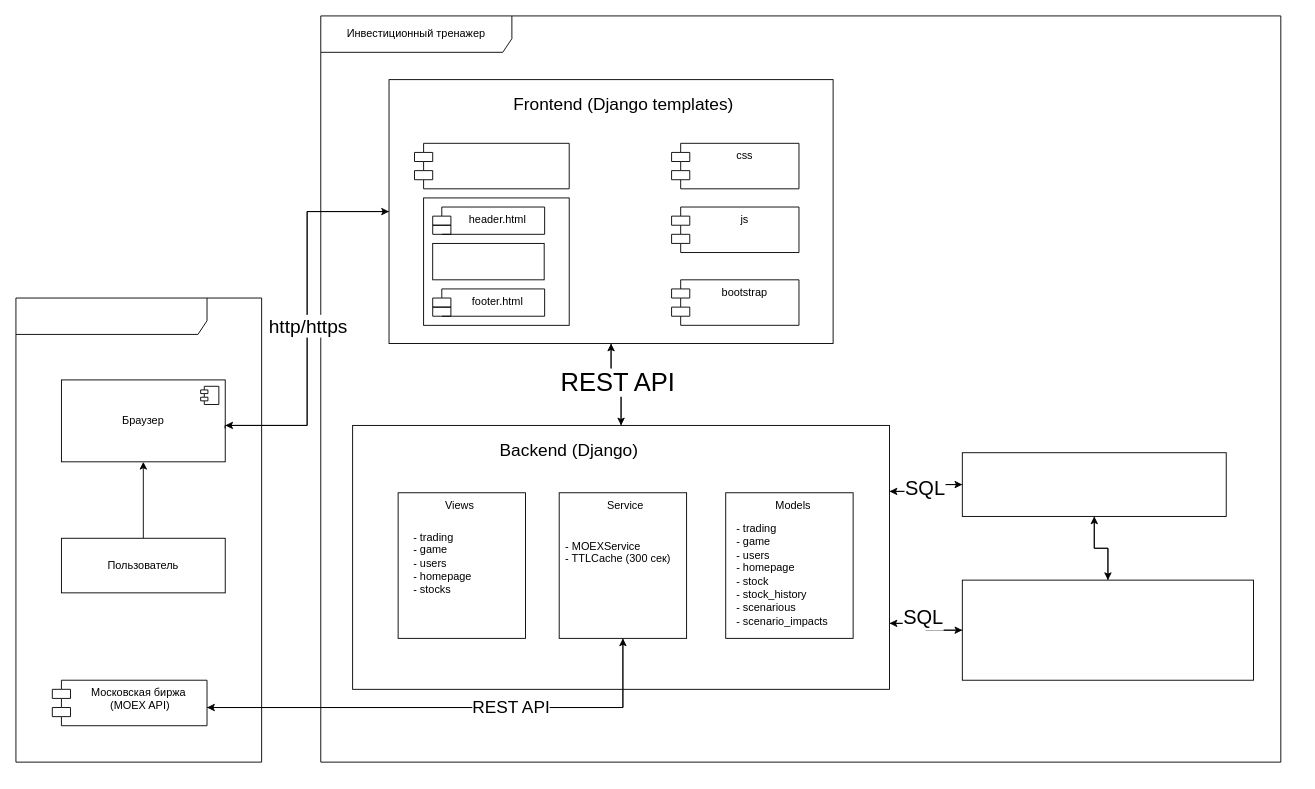
This 1315x789 diagram has some shape labels left out. The box of each missing label's shape, as (x1, y1, x2, y2) in pixels:
base.html: (414, 142, 569, 189)
content: (432, 243, 544, 280)
Database (PostgreSQL): (961, 579, 1254, 680)
Media: (961, 452, 1226, 516)
Внешние сервисы: (15, 297, 262, 762)
